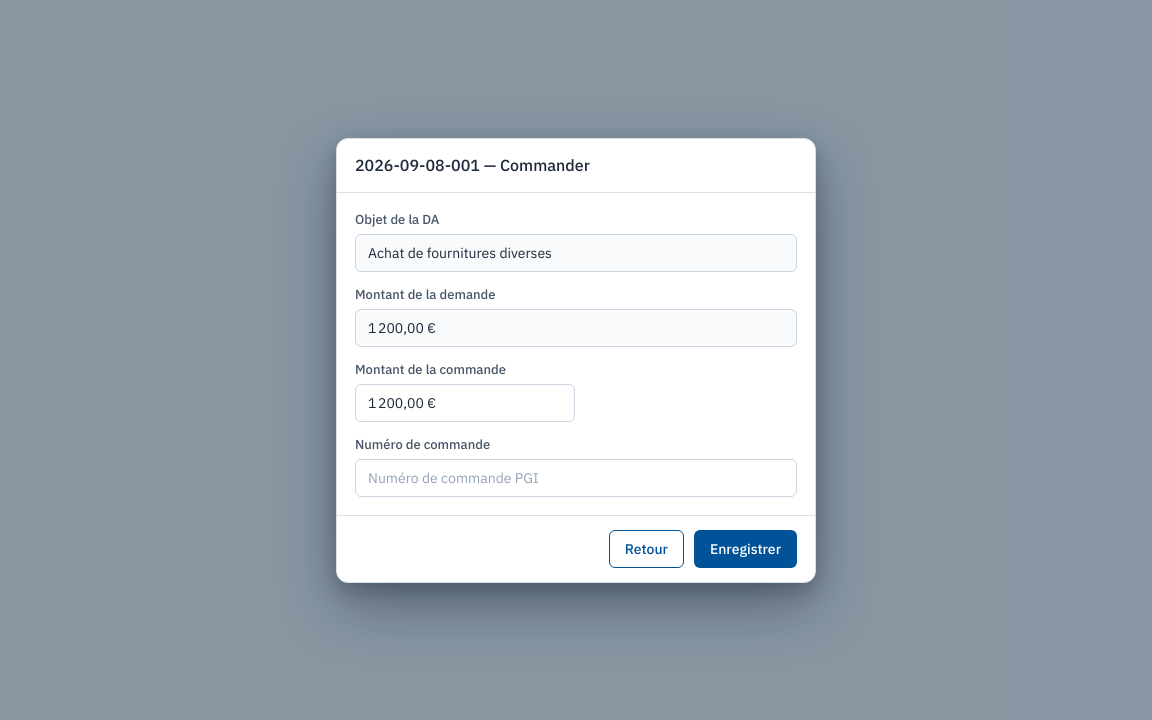
Test: CommanderCbModal › Numéro de commande (décision du 25/09/2026) › reste vide en Hors marché, refuse sans saisie
Expected: the field labelled "Numéro de commande" is empty, left=355, top=458, right=797, bottom=496
Click the button "Enregistrer" at [745, 548], box left=694, top=530, right=797, bottom=568
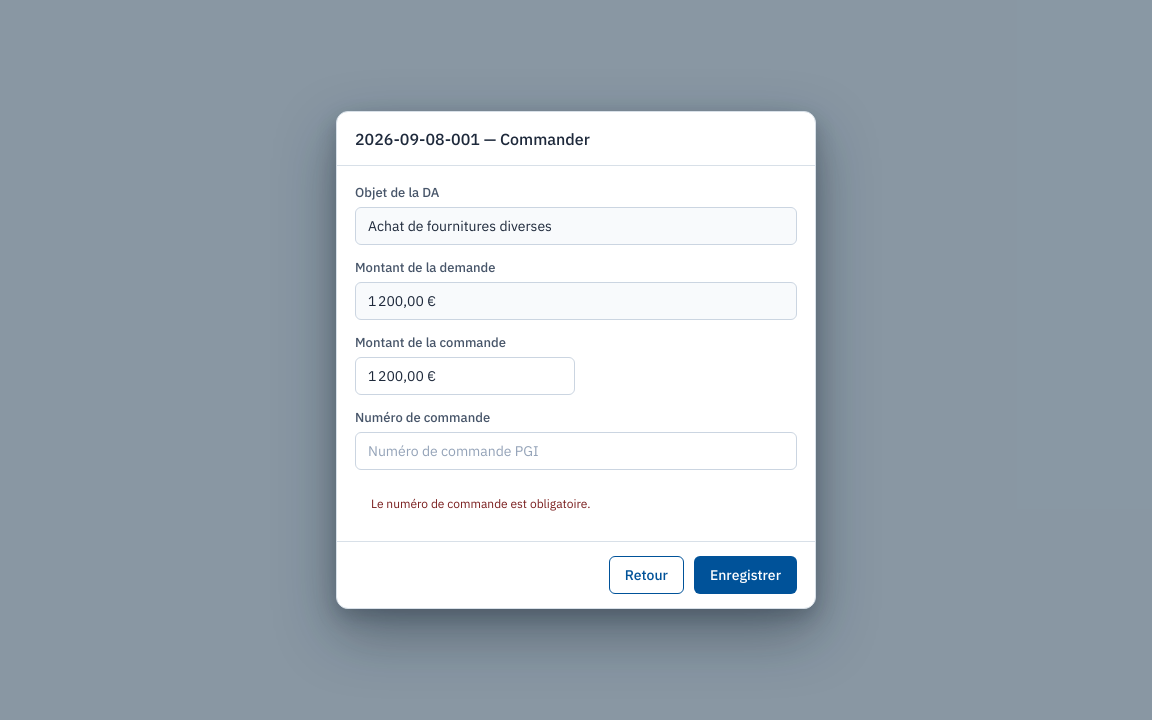
Expected: the text "Le numéro de commande est obligatoire." is shown, left=355, top=496, right=590, bottom=511
